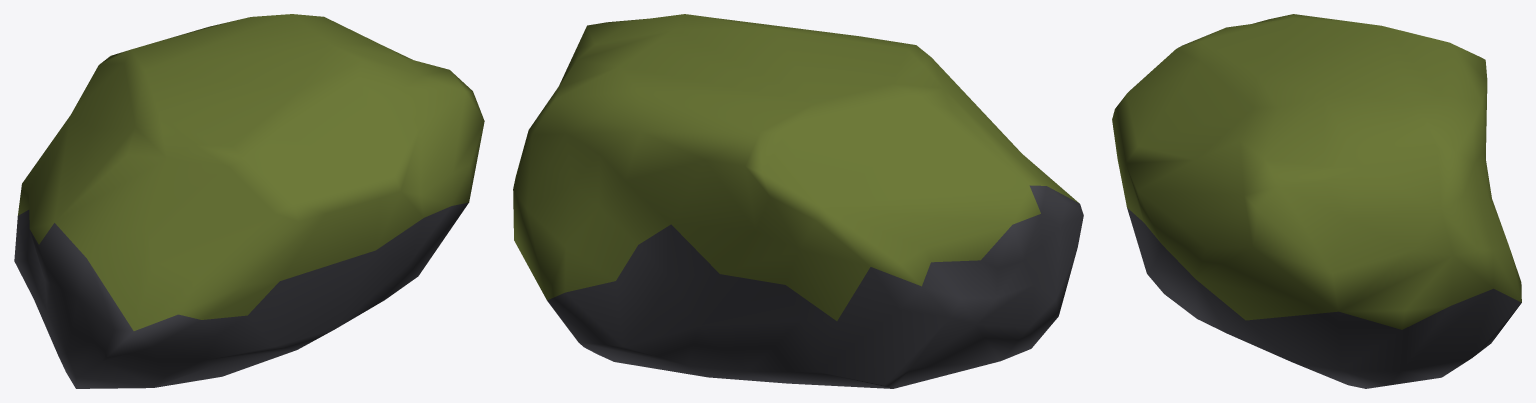
The model's file is Rock_2_mossy_2.fbx.
3 views of the same model, side by side, from view 1: azimuth 30°, elevation 25°; view 2: azimuth 150°, elevation 25°; view 3: azimuth 270°, elevation 25° (orthographic). The views are drawn at different scales.
Visible parts, largest first — view 1: Rock_2_mossy_2; view 2: Rock_2_mossy_2; view 3: Rock_2_mossy_2.
Boxes of the visible parts, x1,y1,x2,y2 form: Rock_2_mossy_2: (14, 14, 484, 388); Rock_2_mossy_2: (513, 14, 1083, 388); Rock_2_mossy_2: (1112, 14, 1521, 388).
Size of the model in its own units: 41.76 by 24.47 by 32.33.
Materials: 1 (1 with a texture image).
